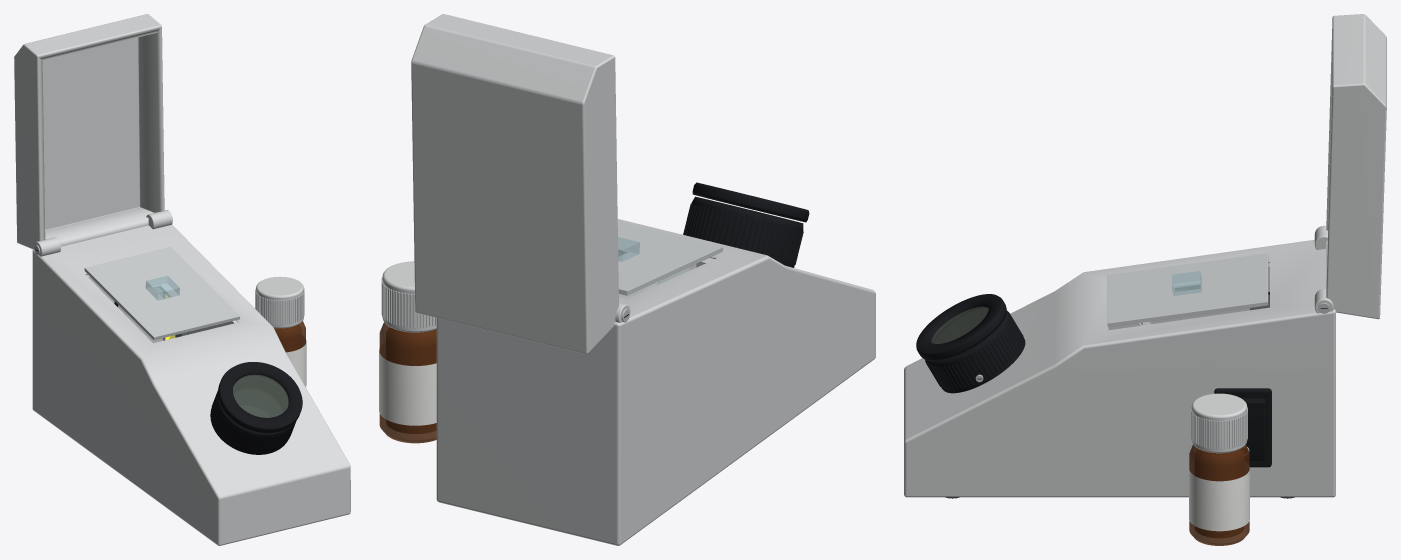
3 renders of one model, left to right at view 1: azimuth 30°, elevation 25°; view 2: azimuth 150°, elevation 25°; view 3: azimuth 270°, elevation 25°, orthographic. The views are drawn at different scales.
Visible parts, largest first — view 1: Refractometer_body, Refractometer_cover, Steel stage with narrow exposed prism, Refractometer_polarizer, Refractometer_eyepiece, Refractometer_oil_bottle, Flat polished isotropic sample; view 2: Refractometer_body, Refractometer_cover, Refractometer_oil_bottle, Refractometer_eyepiece, Steel stage with narrow exposed prism, Refractometer_polarizer; view 3: Refractometer_body, Refractometer_cover, Refractometer_oil_bottle, Steel stage with narrow exposed prism, Refractometer_eyepiece, Refractometer_polarizer, Refractometer_power_switch, Flat polished isotropic sample.
Boxes of the visible parts, box(x1,y1,x2,y2) form: Refractometer_body: box(32, 225, 350, 545); Refractometer_cover: box(14, 14, 172, 256); Steel stage with narrow exposed prism: box(84, 247, 240, 340); Refractometer_polarizer: box(218, 362, 302, 433); Refractometer_eyepiece: box(210, 378, 296, 454); Refractometer_oil_bottle: box(255, 276, 306, 386); Flat polished isotropic sample: box(145, 275, 179, 300); Refractometer_body: box(436, 219, 875, 545); Refractometer_cover: box(411, 14, 630, 353); Refractometer_oil_bottle: box(379, 261, 436, 443); Refractometer_eyepiece: box(683, 196, 803, 267); Steel stage with narrow exposed prism: box(617, 221, 723, 295); Refractometer_polarizer: box(692, 182, 809, 222); Refractometer_body: box(904, 239, 1335, 498); Refractometer_cover: box(1314, 14, 1386, 319); Refractometer_oil_bottle: box(1189, 393, 1249, 545); Steel stage with narrow exposed prism: box(1107, 253, 1268, 326); Refractometer_eyepiece: box(925, 310, 1025, 393); Refractometer_polarizer: box(916, 294, 1006, 361); Refractometer_power_switch: box(1241, 398, 1265, 460); Flat polished isotropic sample: box(1172, 271, 1201, 295).
Bounding box in the file's own units: 0.1128 × 0.1767 × 0.1845.
